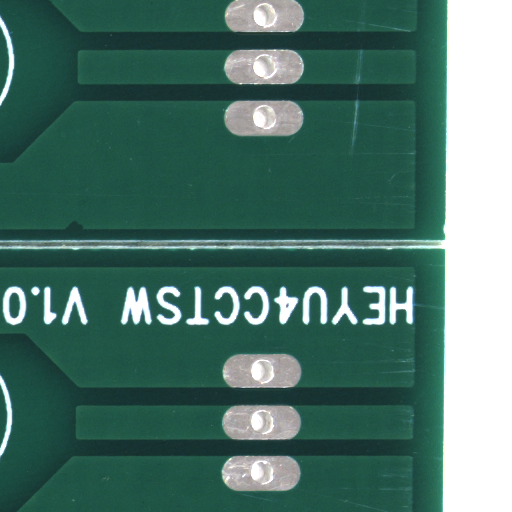Mouse_bite: (73, 225, 91, 236)
